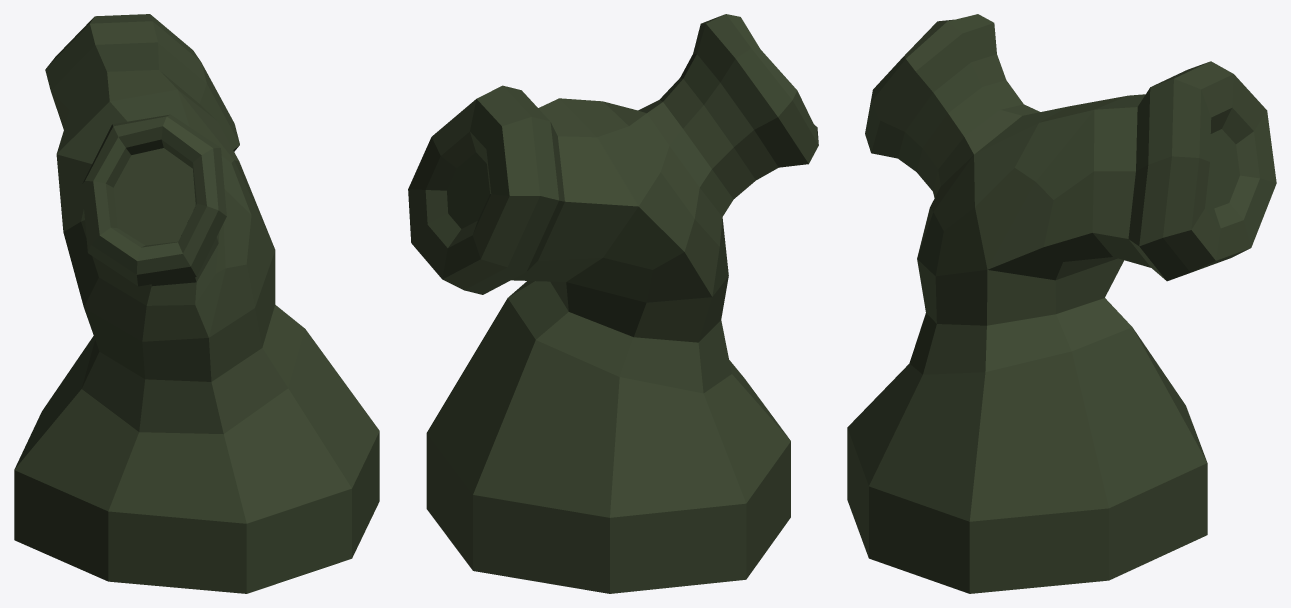
Rendered from EA_Swamp_Root_02b.glb.
The picture shows the model from 3 angles, left to right: view 1: azimuth 30°, elevation 25°; view 2: azimuth 150°, elevation 25°; view 3: azimuth 270°, elevation 25°; orthographic projection. The views are drawn at different scales.
Visible parts, largest first — view 1: EA_Swamp_Root_02b; view 2: EA_Swamp_Root_02b; view 3: EA_Swamp_Root_02b.
Part boxes in pixels (<box>): EA_Swamp_Root_02b: <box>14,14,379,593</box>; EA_Swamp_Root_02b: <box>408,14,818,593</box>; EA_Swamp_Root_02b: <box>847,14,1276,593</box>.
Bounding box in the file's own units: 1.61 × 2.24 × 1.88.
1 material, 1 textured.
